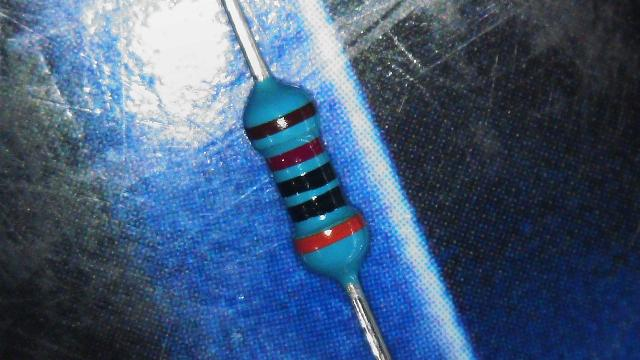black: (289, 195, 347, 216), (278, 169, 334, 188)
brown: (246, 102, 316, 140)
orange: (294, 214, 364, 254)
red: (267, 137, 324, 170)
resistor: (212, 50, 398, 305)
